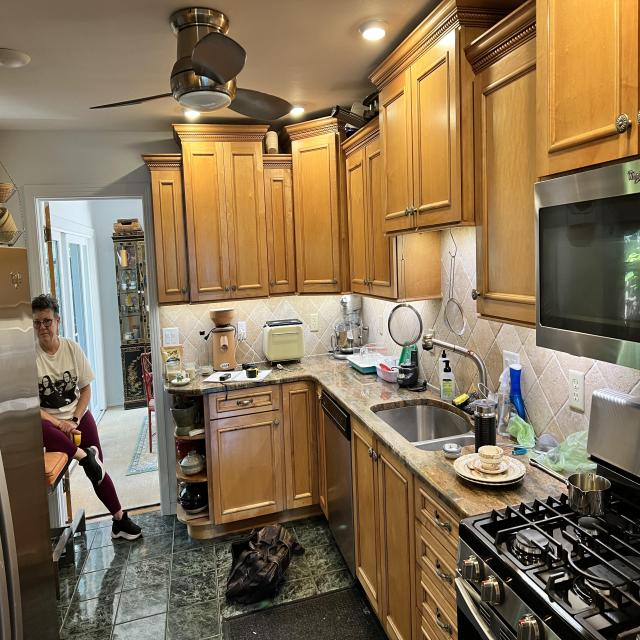Appliance_Dishwasher: (319, 391, 355, 576)
Appliance_Fridge: (0, 248, 58, 640)
Appliance_Microwave: (534, 156, 640, 370)
Appliance_Oven: (454, 388, 640, 640)
Appliance_Sink: (370, 399, 473, 457), (425, 339, 487, 386)
Cabinet_Shaker: (143, 0, 640, 326), (169, 380, 323, 543), (352, 420, 460, 640)
Countertop_Granite: (262, 356, 567, 516)
